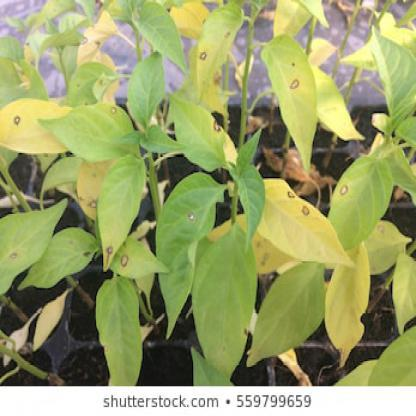Bell_pepper leaf: (154, 174, 224, 342), (256, 175, 356, 266), (262, 35, 316, 172), (1, 194, 66, 298), (330, 152, 393, 252), (191, 6, 247, 110), (37, 104, 137, 160), (97, 154, 144, 272), (22, 229, 100, 292), (167, 93, 226, 168)
